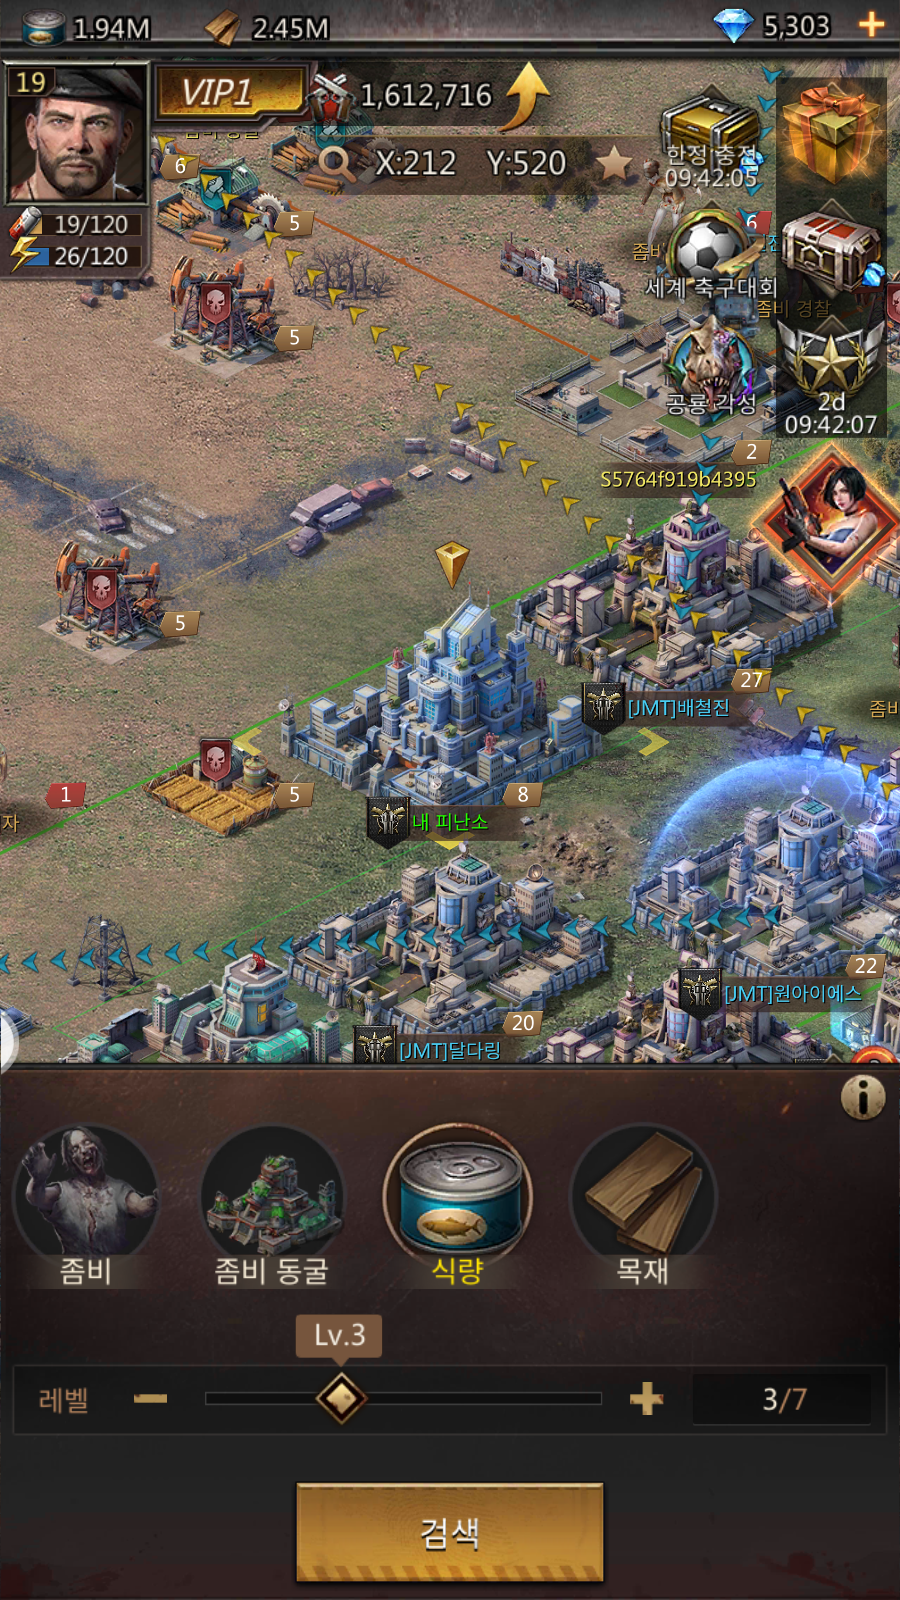rss_food_in_panel: (385, 1120, 537, 1286)
rss_lv3: (295, 1310, 383, 1357)
rss_minus_in_panel: (127, 1371, 176, 1420)
rss_plus_in_panel: (624, 1373, 673, 1424)
rss_search_in_panel: (298, 1485, 605, 1581)
rss_wood_in_panel: (564, 1122, 725, 1290)
